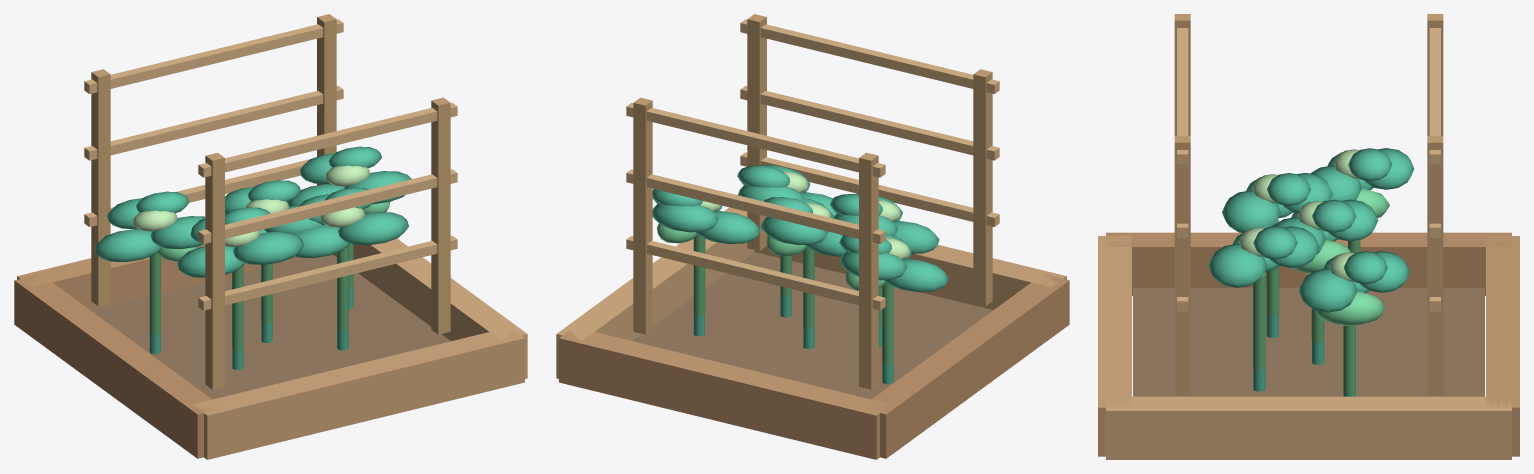
The model's file is crop_vine_mid.glb.
3 views of the same model, side by side, from view 1: azimuth 30°, elevation 25°; view 2: azimuth 150°, elevation 25°; view 3: azimuth 270°, elevation 25° (orthographic). The views are drawn at different scales.
Bounding box in the file's own units: 0.935 × 0.769 × 0.935.
